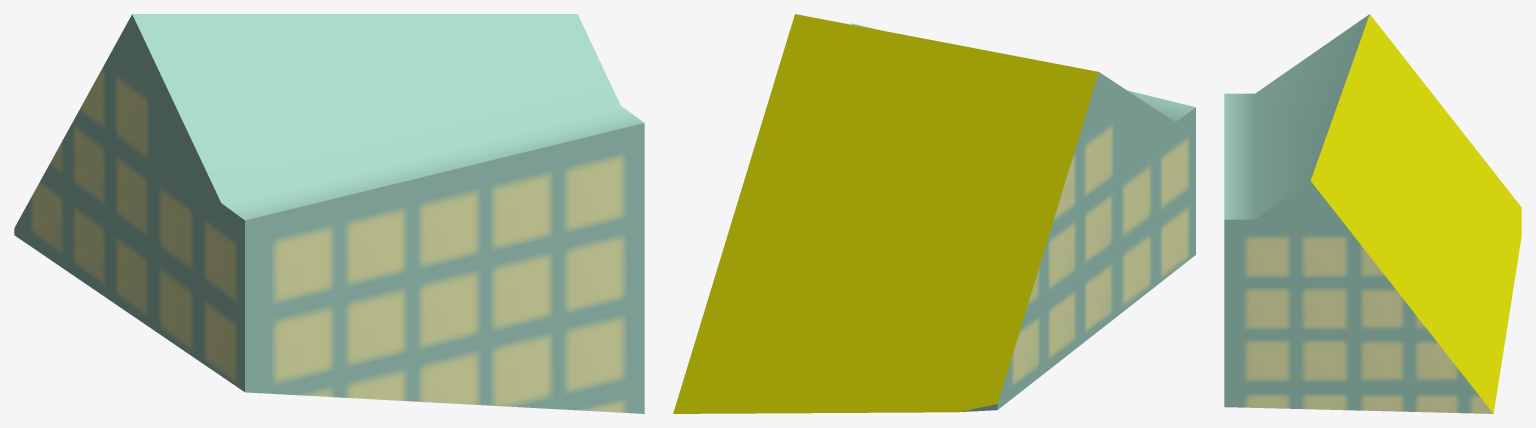
Rendered from c1Shard5.fbx.
The picture shows the model from 3 angles, left to right: view 1: azimuth 30°, elevation 25°; view 2: azimuth 150°, elevation 25°; view 3: azimuth 270°, elevation 25°; orthographic projection. The views are drawn at different scales.
Visible parts, largest first — view 1: shard55; view 2: shard55; view 3: shard55.
Part boxes in pixels (bbox=[...]): shard55: bbox=[14, 14, 644, 413]; shard55: bbox=[673, 14, 1195, 413]; shard55: bbox=[1224, 14, 1521, 413].
Size of the model in its own units: 0.0917 by 0.0932 by 0.0917.
2 materials, 1 textured.
